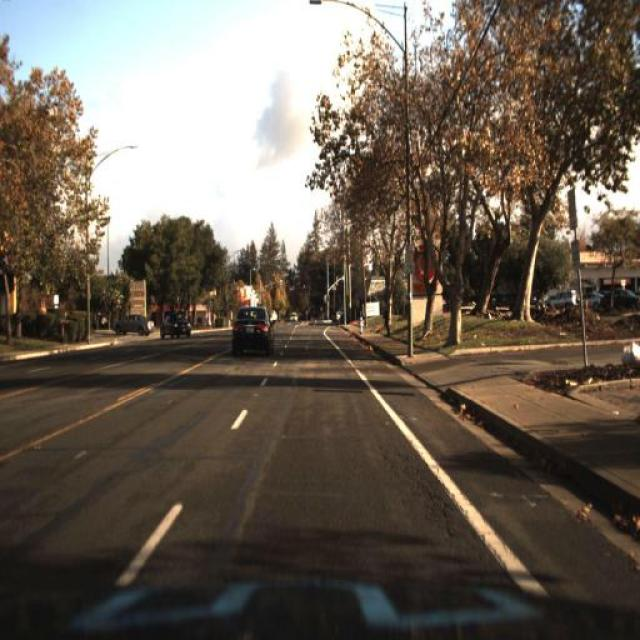car: (231, 298, 275, 353), (600, 288, 640, 312), (156, 313, 192, 337), (114, 311, 150, 334), (543, 288, 579, 308), (574, 290, 606, 310), (332, 311, 346, 323), (291, 313, 298, 322)
trafficLight: (380, 295, 394, 341)
